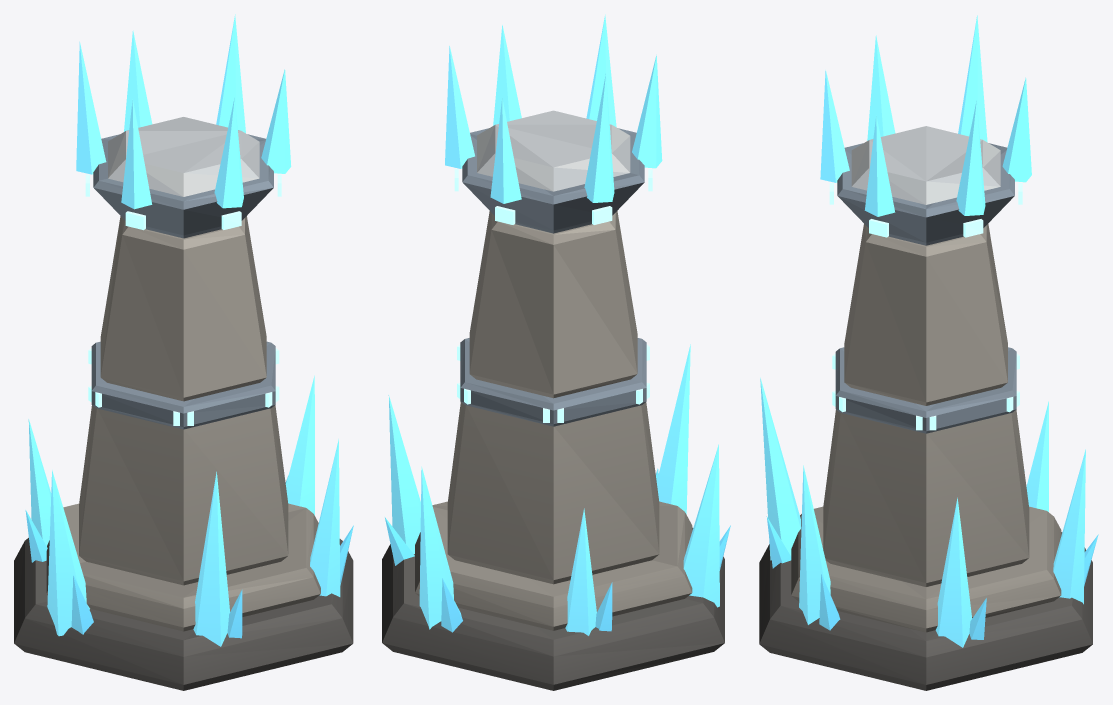
File: rime_spire.glb
The picture shows the model from 3 angles, left to right: view 1: azimuth 30°, elevation 25°; view 2: azimuth 150°, elevation 25°; view 3: azimuth 270°, elevation 25°; orthographic projection. The views are drawn at different scales.
Visible parts, largest first — view 1: rime_spire; view 2: rime_spire; view 3: rime_spire.
Boxes of the visible parts, x1,y1,x2,y2 form: rime_spire: (14,14,353,690); rime_spire: (382,14,730,690); rime_spire: (759,15,1098,690).
Bounding box in the file's own units: 0.94 × 1.52 × 0.8277.
